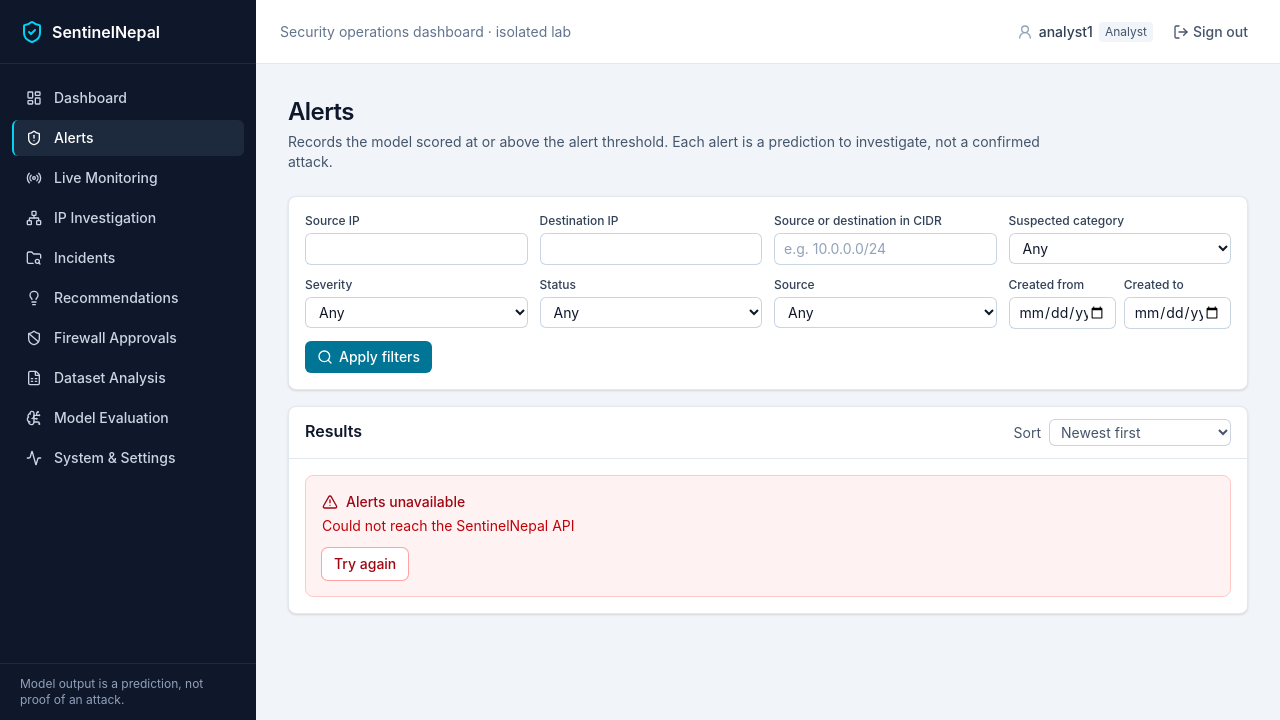
Scenario: AlertsPage › shows a retryable error
The image size is (1280, 720).
Check: the message shows "Could not reach the SentinelNepal API", box [322, 517, 574, 534]
Click the button "Try again" at (365, 564), box [322, 548, 408, 580]
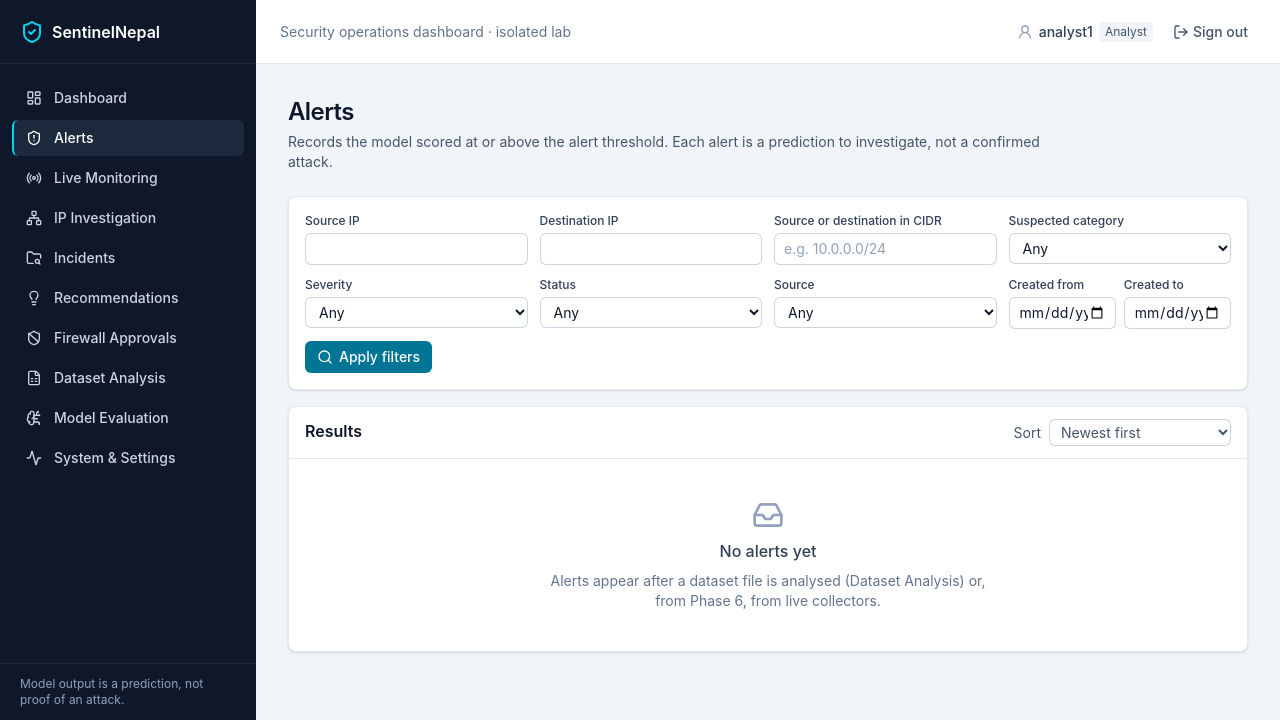
Check: the text "No alerts yet" is shown, box [720, 539, 816, 563]
